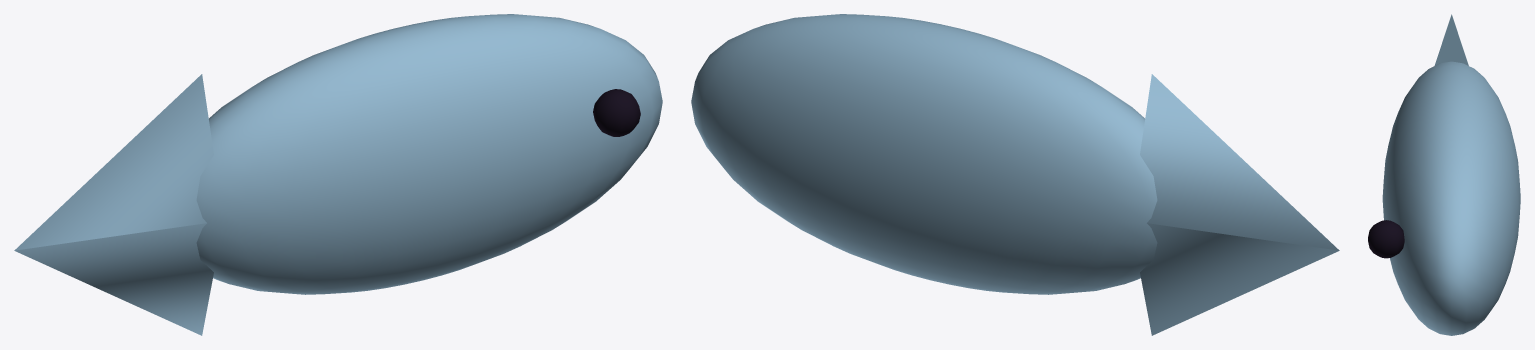
File: fish.glb
The picture shows the model from 3 angles, left to right: view 1: azimuth 30°, elevation 25°; view 2: azimuth 150°, elevation 25°; view 3: azimuth 270°, elevation 25°; orthographic projection. The views are drawn at different scales.
Visible parts, largest first — view 1: Fish; view 2: Fish; view 3: Fish.
Boxes of the visible parts, x1,y1,x2,y2 form: Fish: (14, 14, 662, 335); Fish: (691, 14, 1339, 335); Fish: (1368, 14, 1520, 335).
Bounding box in the file's own units: 1.55 × 0.6 × 0.3976.
